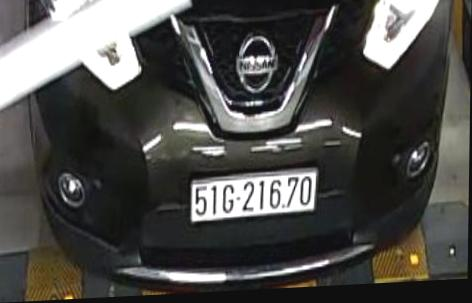License_Plate: (187, 169, 318, 231)
